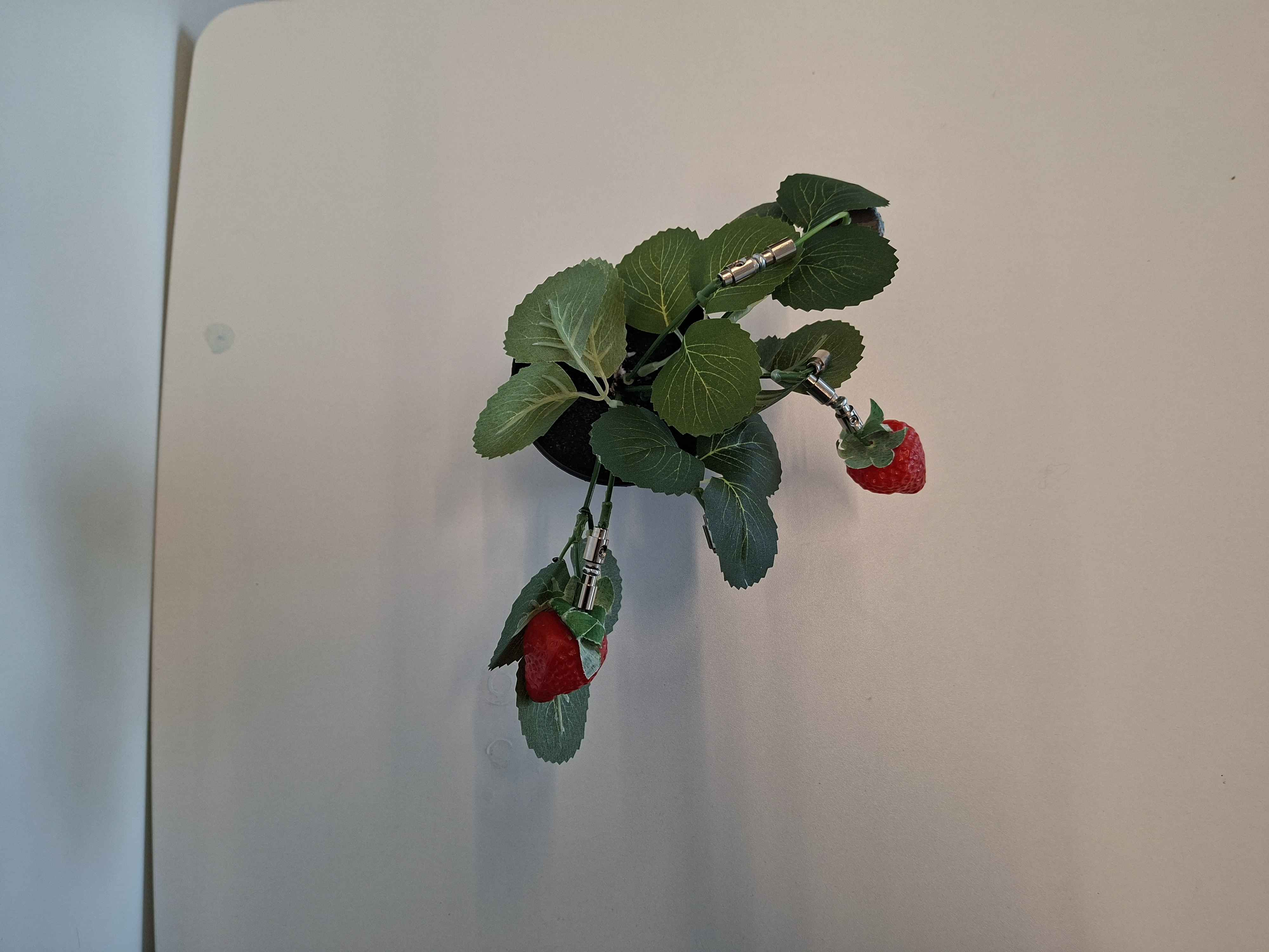Strawberry: (511, 598, 615, 707), (835, 399, 936, 505)
